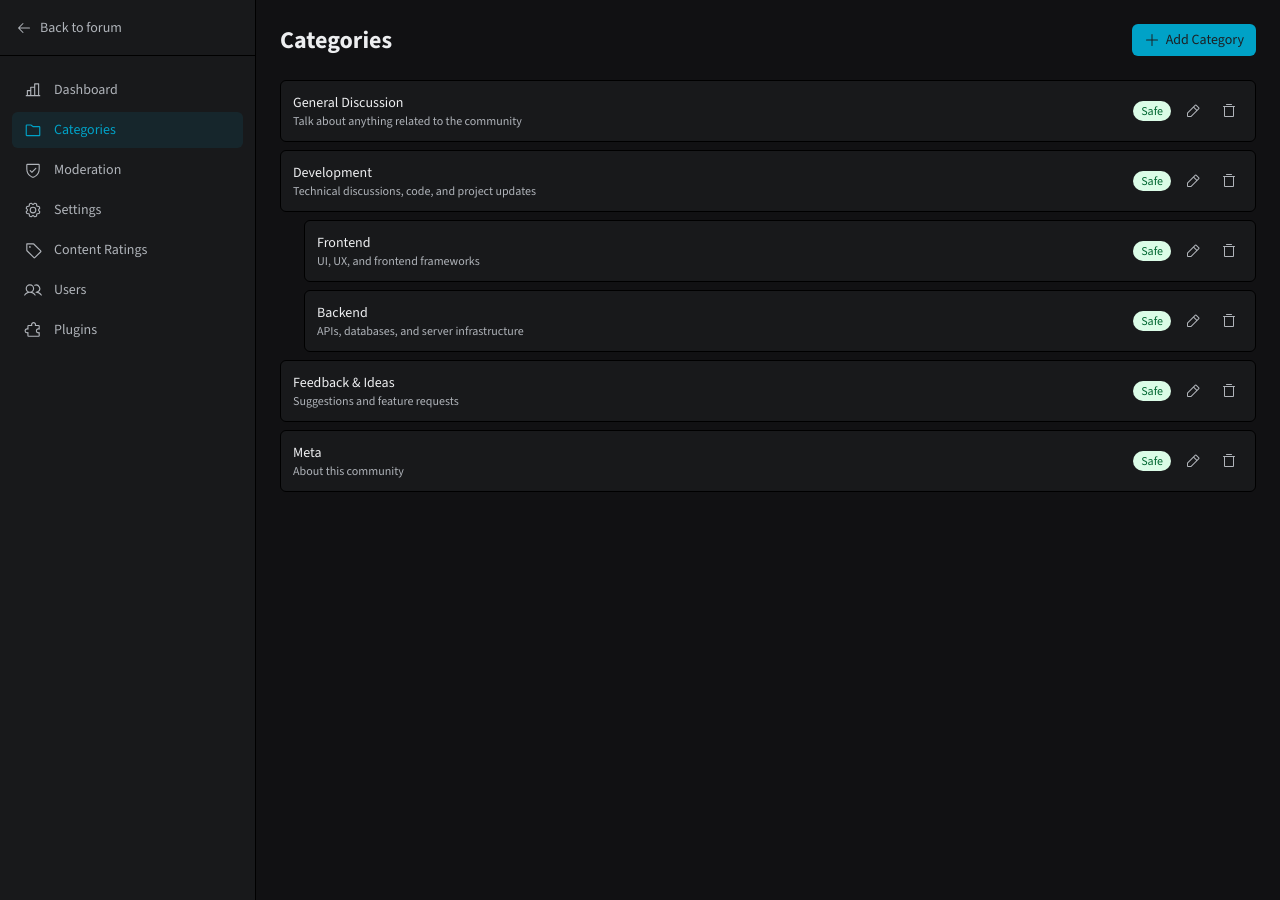
Scenario: AdminCategoriesPage › shows edit form when edit button is clicked
Check: the text "General Discussion" is shown, box top-left (293, 93), bottom-right (404, 112)
Step 1. Click the button named "edit" → (1193, 111), box top-left (1179, 97), bottom-right (1207, 125)
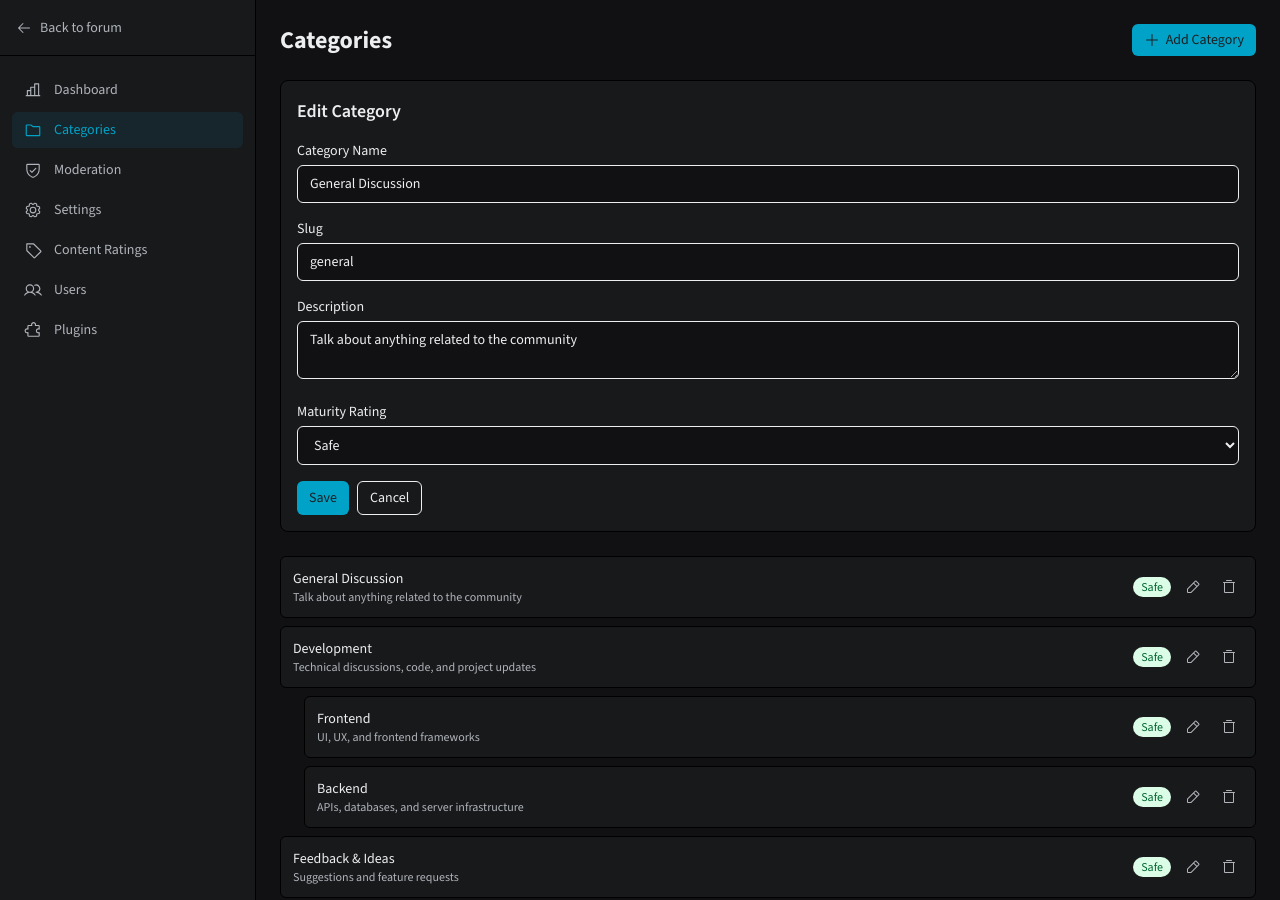
Check: the field labelled "Category Name" is shown, box top-left (297, 165), bottom-right (1239, 203)
